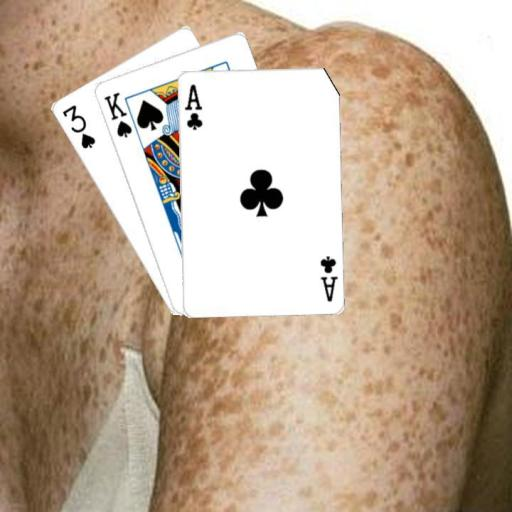3S: (58, 102, 97, 150)
AC: (181, 81, 204, 131), (317, 252, 339, 302)
KS: (100, 89, 134, 139)
